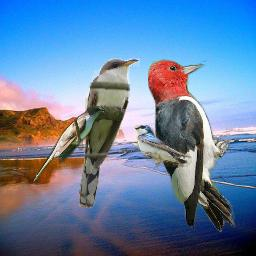Cuckoo: (79, 58, 140, 208), (32, 106, 104, 183)
Swallow: (134, 125, 192, 168)
Woodpecker: (148, 58, 236, 232)
